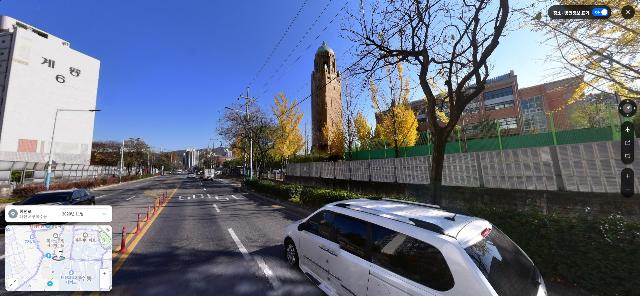ginkgo: (369, 63, 419, 158), (321, 72, 372, 160), (269, 91, 307, 168)
other: (328, 0, 515, 209), (211, 98, 284, 183), (115, 139, 148, 177)
